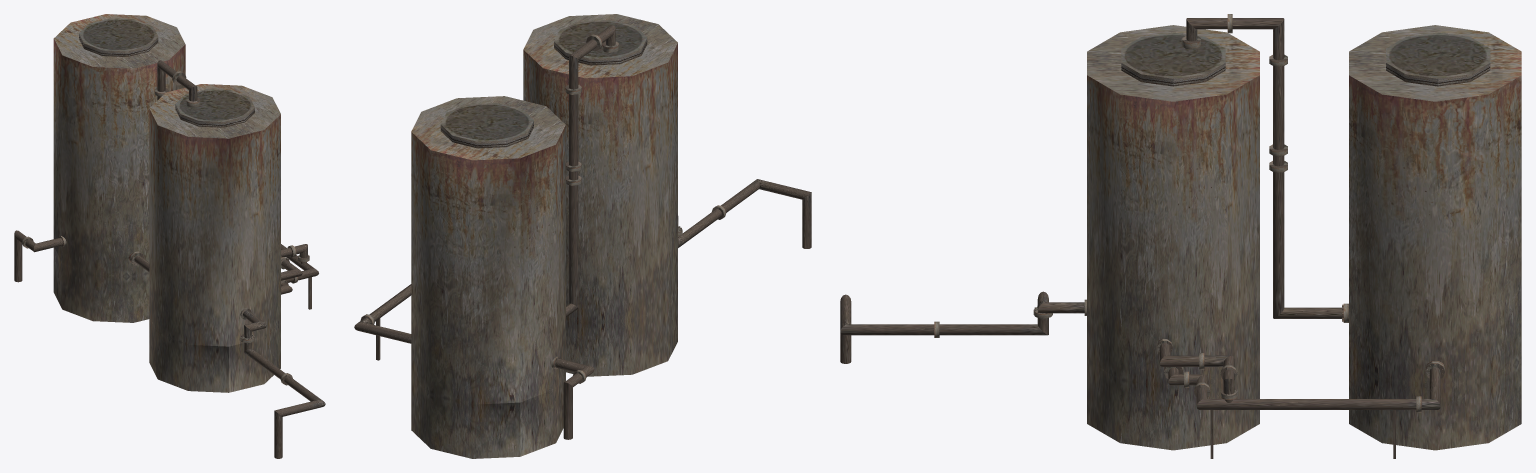
Rendered from O_TankB.glb.
3 views of the same model, side by side, from view 1: azimuth 30°, elevation 25°; view 2: azimuth 150°, elevation 25°; view 3: azimuth 270°, elevation 25° (orthographic). The views are drawn at different scales.
Parts seen in each view (by area): view 1: _O_TankB; view 2: _O_TankB; view 3: _O_TankB.
Boxes of the visible parts, x1,y1,x2,y2 form: _O_TankB: (14,14,325,458); _O_TankB: (354,14,811,458); _O_TankB: (840,14,1521,458).
Bounding box in the file's own units: 9.23 × 12.2 × 19.49.
Materials: 4 (4 with a texture image).
